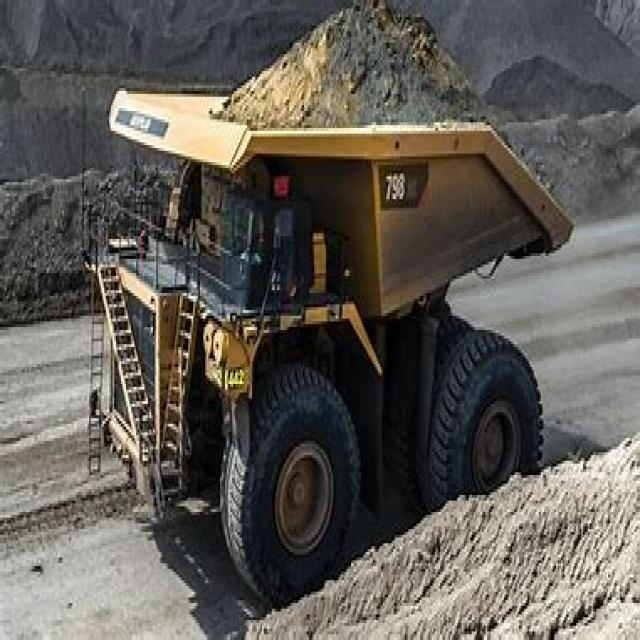dump_truck: (59, 11, 558, 589)
